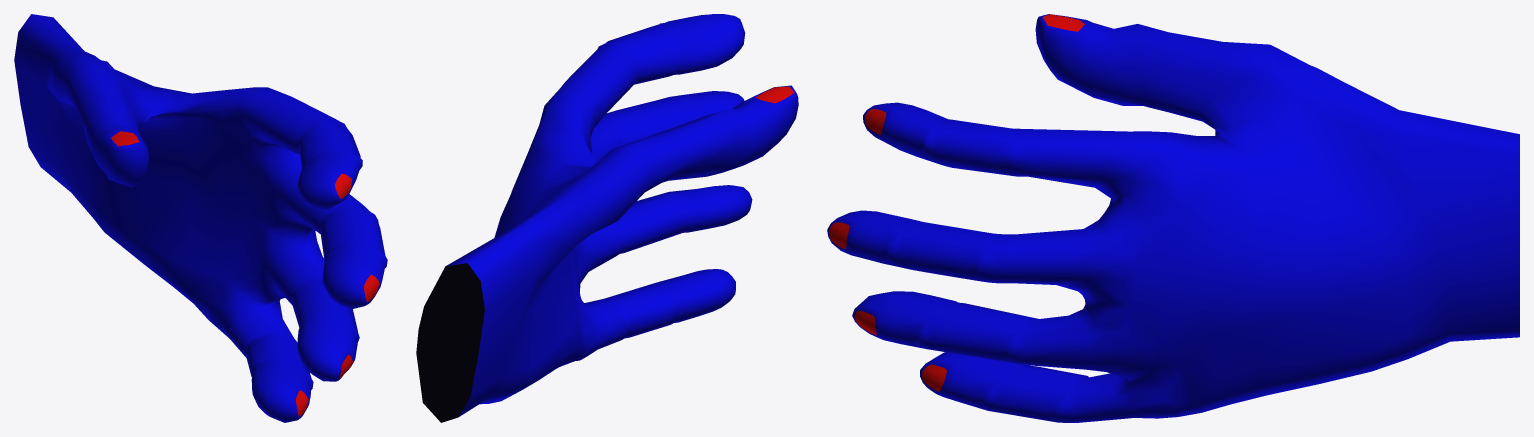
File: HandLeft5.fbx
The picture shows the model from 3 angles, left to right: view 1: azimuth 30°, elevation 25°; view 2: azimuth 150°, elevation 25°; view 3: azimuth 270°, elevation 25°; orthographic projection. The views are drawn at different scales.
Parts seen in each view (by area): view 1: LeftHand; view 2: LeftHand; view 3: LeftHand.
Boxes of the visible parts, x1=… form: LeftHand: x1=14, y1=14, x2=387, y2=422; LeftHand: x1=416, y1=14, x2=798, y2=422; LeftHand: x1=827, y1=14, x2=1519, y2=422.
Bounding box in the file's own units: 9.36 × 10.63 × 20.8.
